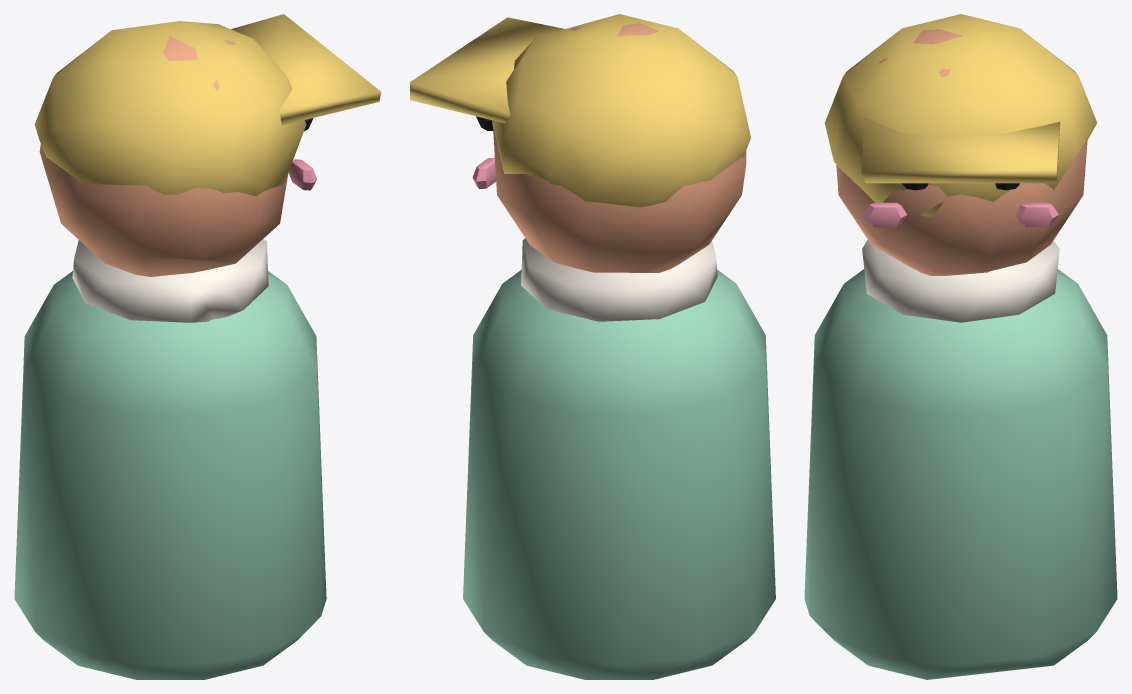
Rendered from peg_a.glb.
3 views of the same model, side by side, from view 1: azimuth 30°, elevation 25°; view 2: azimuth 150°, elevation 25°; view 3: azimuth 270°, elevation 25° (orthographic).
Visible parts, largest first — view 1: peg_a; view 2: peg_a; view 3: peg_a.
Boxes of the visible parts, left/top/right/bottom form: peg_a: left=14, top=14, right=381, bottom=679; peg_a: left=410, top=14, right=775, bottom=679; peg_a: left=804, top=14, right=1117, bottom=679.
Size of the model in its own units: 0.34 by 0.6478 by 0.31.
1 material, 1 textured.
